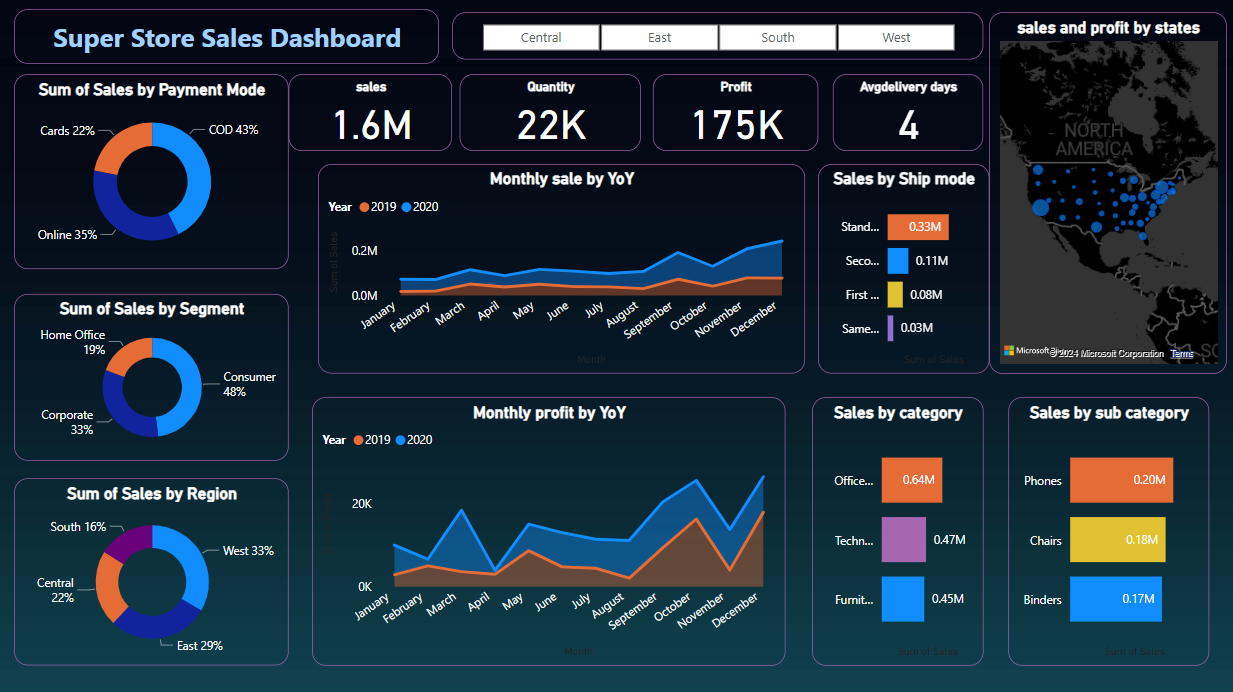

The page's visual inventory and layout, read from the dashboard file:
{"tool":"powerbi","page":{"name":"Page 1","canvas":[1280,720],"ordinal":0},"visuals":[{"type":"clusteredBarChart","title":"Sales by category","fields":{"Category":["SuperStore_Sales_Dataset.Category"],"Y":["Sum(SuperStore_Sales_Dataset.Sales)"]},"box":[841,414.4,176.7,277.3],"z":0},{"type":"clusteredBarChart","title":"Sales by sub  category","fields":{"Category":["SuperStore_Sales_Dataset.Sub-Category"],"Y":["Sum(SuperStore_Sales_Dataset.Sales)"]},"box":[1043.7,414.4,207.2,277.3],"z":1000},{"type":"stackedAreaChart","title":"Monthly sale by YoY","fields":{"Y":["Sum(SuperStore_Sales_Dataset.Sales)"],"Category":["SuperStore_Sales_Dataset.Order Date.Variation.Date Hierarchy.Month","SuperStore_Sales_Dataset.Order Date.Variation.Date Hierarchy.Day"],"Series":["SuperStore_Sales_Dataset.Order Date.Variation.Date Hierarchy.Year"]},"box":[330.6,173.7,502.8,216.4],"z":2000},{"type":"stackedAreaChart","title":"Monthly profit by YoY","fields":{"Category":["SuperStore_Sales_Dataset.Order Date.Variation.Date Hierarchy.Month","SuperStore_Sales_Dataset.Order Date.Variation.Date Hierarchy.Day"],"Series":["SuperStore_Sales_Dataset.Order Date.Variation.Date Hierarchy.Year"],"Y":["Sum(SuperStore_Sales_Dataset.Profit)"]},"box":[324.5,414.4,489.1,277.3],"z":3000},{"type":"map","title":"sales and profit by states","fields":{"Category":["SuperStore_Sales_Dataset.State"],"Size":["Sum(SuperStore_Sales_Dataset.Sales)"]},"box":[1023.9,16.8,245.3,373.3],"z":4000},{"type":"clusteredBarChart","title":"Sales by  Ship mode","fields":{"Category":["SuperStore_Sales_Dataset.Ship Mode"],"Y":["Sum(SuperStore_Sales_Dataset.Sales)"]},"box":[847.1,173.7,176.7,216.4],"z":5000},{"type":"donutChart","fields":{"Category":["SuperStore_Sales_Dataset.Segment"],"Y":["Sum(SuperStore_Sales_Dataset.Sales)"]},"box":[16.8,307.8,283.4,172.2],"z":6000},{"type":"donutChart","fields":{"Y":["Sum(SuperStore_Sales_Dataset.Sales)"],"Category":["SuperStore_Sales_Dataset.Region"]},"box":[16.8,498.2,283.4,193.5],"z":7000},{"type":"donutChart","fields":{"Y":["Sum(SuperStore_Sales_Dataset.Sales)"],"Category":["SuperStore_Sales_Dataset.Payment Mode"]},"box":[16.8,80.8,283.4,201.1],"z":8000},{"type":"slicer","fields":{"Values":["SuperStore_Sales_Dataset.Region"]},"box":[469.3,16.8,548.5,48.8],"z":9000},{"type":"textbox","box":[16.8,13.7,438.8,56.4],"z":10000},{"type":"card","title":"sales","fields":{"Values":["Sum(SuperStore_Sales_Dataset.Sales)"]},"box":[300.2,80.8,169.1,79.2],"z":11000},{"type":"card","title":"Quantity","fields":{"Values":["Sum(SuperStore_Sales_Dataset.Quantity)"]},"box":[476.9,80.8,187.4,79.2],"z":12000},{"type":"card","title":"Profit","fields":{"Values":["Sum(SuperStore_Sales_Dataset.Profit)"]},"box":[676.5,80.8,170.6,79.2],"z":13000},{"type":"card","title":"Avgdelivery days","fields":{"Values":["Avg(SuperStore_Sales_Dataset.Averagedelivery)"]},"box":[862.4,80.8,155.4,79.2],"z":14000}]}

Visuals, with their boxes in screenshot pixels (x1, y1, x2, y2), scaled from the page's 1280x720 canvas onto the 1233x692 screenshot:
"Sales by category" clusteredBarChart: (x1=810, y1=398, x2=980, y2=665)
"Sales by sub  category" clusteredBarChart: (x1=1005, y1=398, x2=1205, y2=665)
"Monthly sale by YoY" stackedAreaChart: (x1=318, y1=167, x2=803, y2=375)
"Monthly profit by YoY" stackedAreaChart: (x1=313, y1=398, x2=784, y2=665)
"sales and profit by states" map: (x1=986, y1=16, x2=1223, y2=375)
"Sales by  Ship mode" clusteredBarChart: (x1=816, y1=167, x2=986, y2=375)
donutChart - SuperStore_Sales_Dataset.Segment x Sum(SuperStore_Sales_Dataset.Sales): (x1=16, y1=296, x2=289, y2=461)
donutChart - Sum(SuperStore_Sales_Dataset.Sales) x SuperStore_Sales_Dataset.Region: (x1=16, y1=479, x2=289, y2=665)
donutChart - Sum(SuperStore_Sales_Dataset.Sales) x SuperStore_Sales_Dataset.Payment Mode: (x1=16, y1=78, x2=289, y2=271)
slicer - SuperStore_Sales_Dataset.Region: (x1=452, y1=16, x2=980, y2=63)
textbox: (x1=16, y1=13, x2=439, y2=67)
"sales" card: (x1=289, y1=78, x2=452, y2=154)
"Quantity" card: (x1=459, y1=78, x2=640, y2=154)
"Profit" card: (x1=652, y1=78, x2=816, y2=154)
"Avgdelivery days" card: (x1=831, y1=78, x2=980, y2=154)
